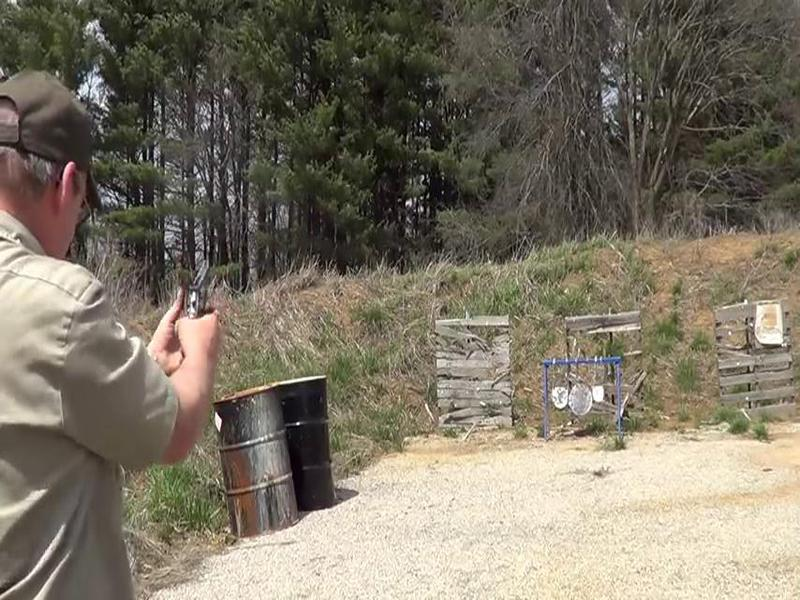Revolver: (177, 241, 234, 338)
